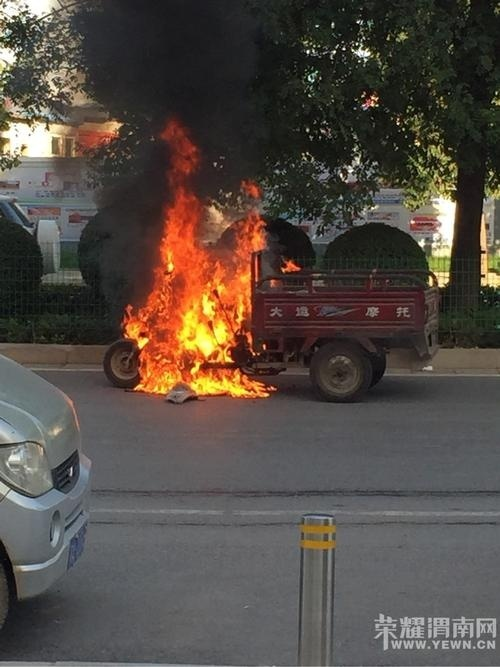fire: (124, 116, 272, 407)
